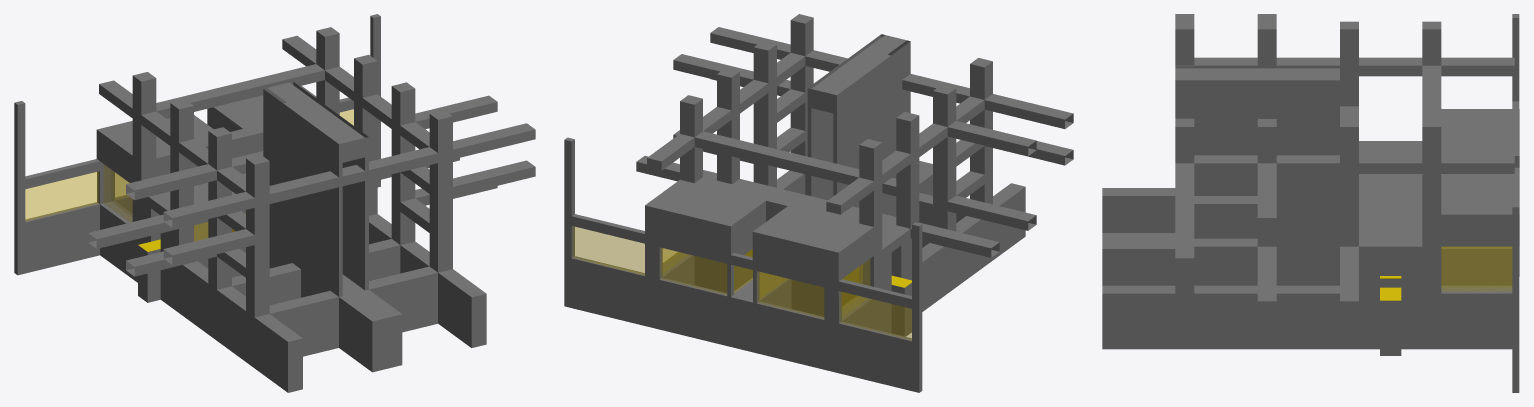
Rendered from GreatStructure.fbx.
The picture shows the model from 3 angles, left to right: view 1: azimuth 30°, elevation 25°; view 2: azimuth 150°, elevation 25°; view 3: azimuth 270°, elevation 25°; orthographic projection. The views are drawn at different scales.
Parts seen in each view (by area): view 1: GearChamberStructure, GearChamberStructure.001; view 2: GearChamberStructure, GearChamberStructure.001; view 3: GearChamberStructure, GearChamberStructure.001.
Boxes of the visible parts, x1,y1,x2,y2 form: GearChamberStructure: (14,14,535,392); GearChamberStructure.001: (25,109,353,241); GearChamberStructure: (564,14,1073,392); GearChamberStructure.001: (572,226,911,340); GearChamberStructure: (1102,14,1519,392); GearChamberStructure.001: (1441,246,1512,291).
Size of the model in its own units: 19400 by 10400 by 17700.
